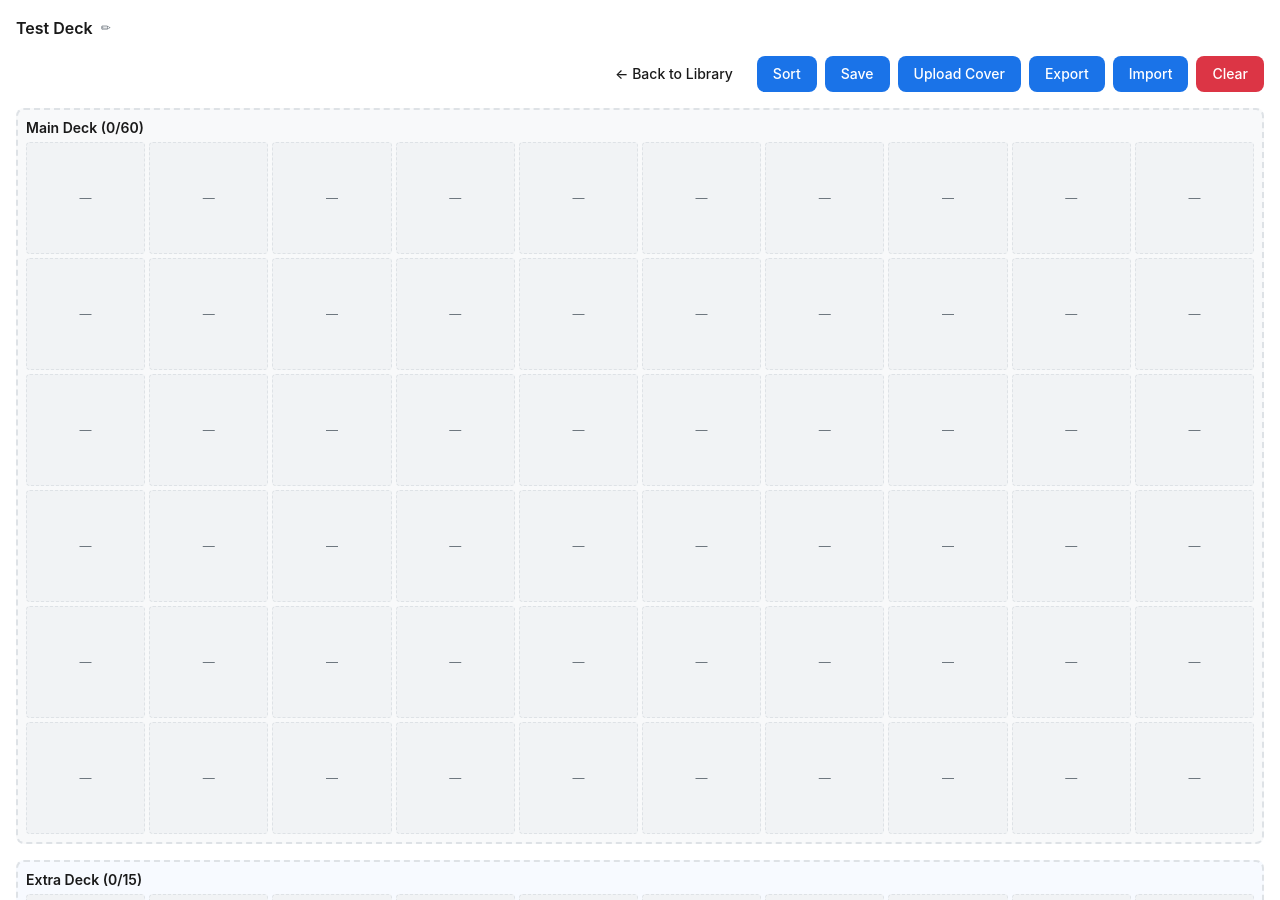
Test: DeckBuilder save/import/export › Save button shows Saving... during save
Click the button "Save".
click(857, 74)  # box x1=825 y1=56 x2=890 y2=92
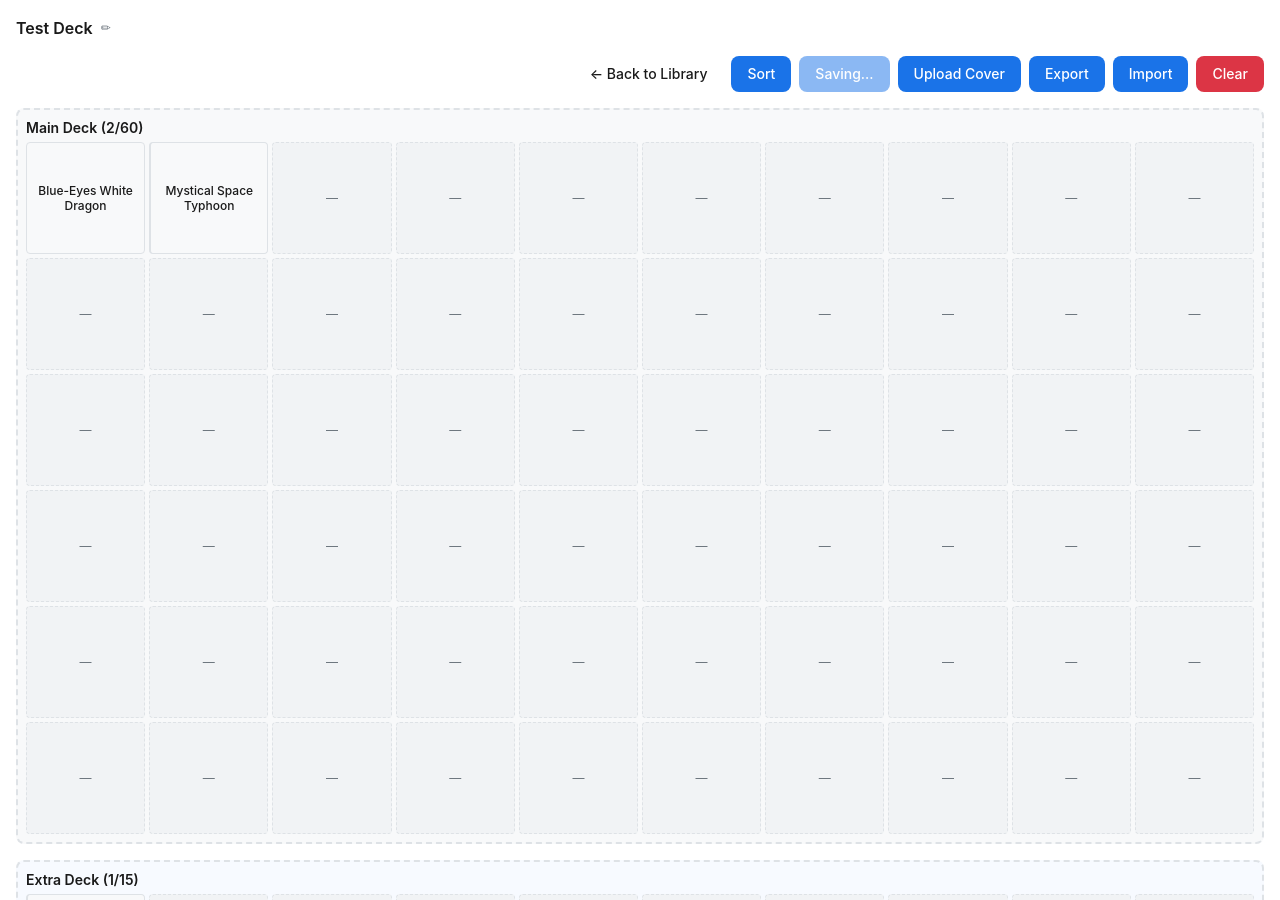
Expected: the button "Saving..." is shown, x1=799 y1=56 x2=890 y2=92
